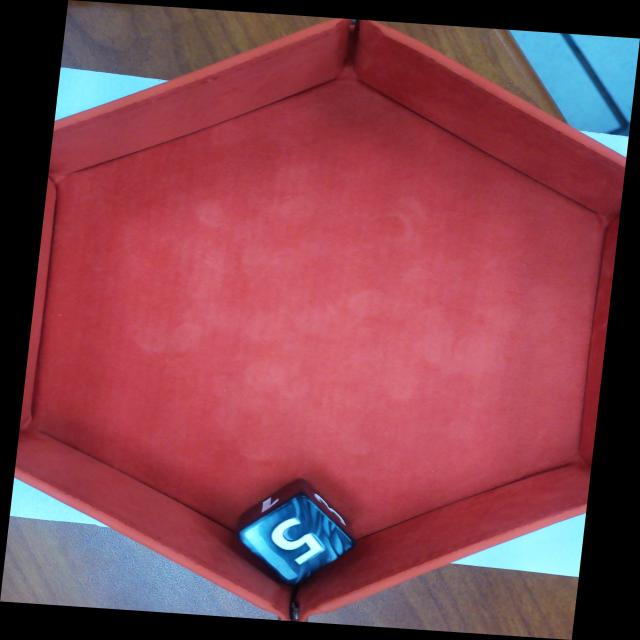dice: (238, 494, 357, 585)
